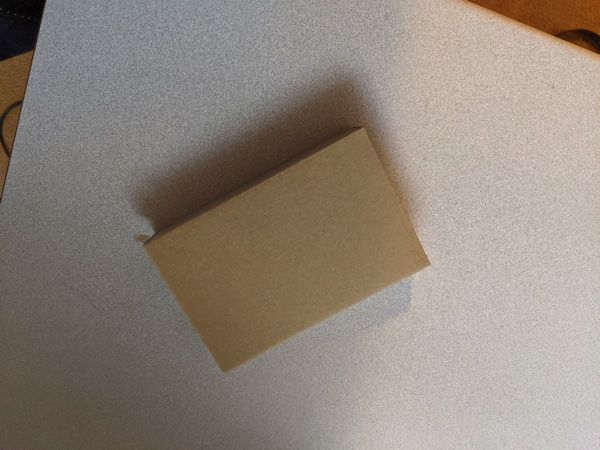cardboard: (118, 111, 449, 386)
